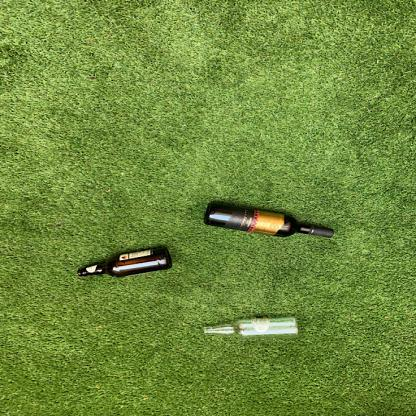trash: (202, 201, 336, 248), (78, 246, 171, 283), (202, 318, 304, 337)
